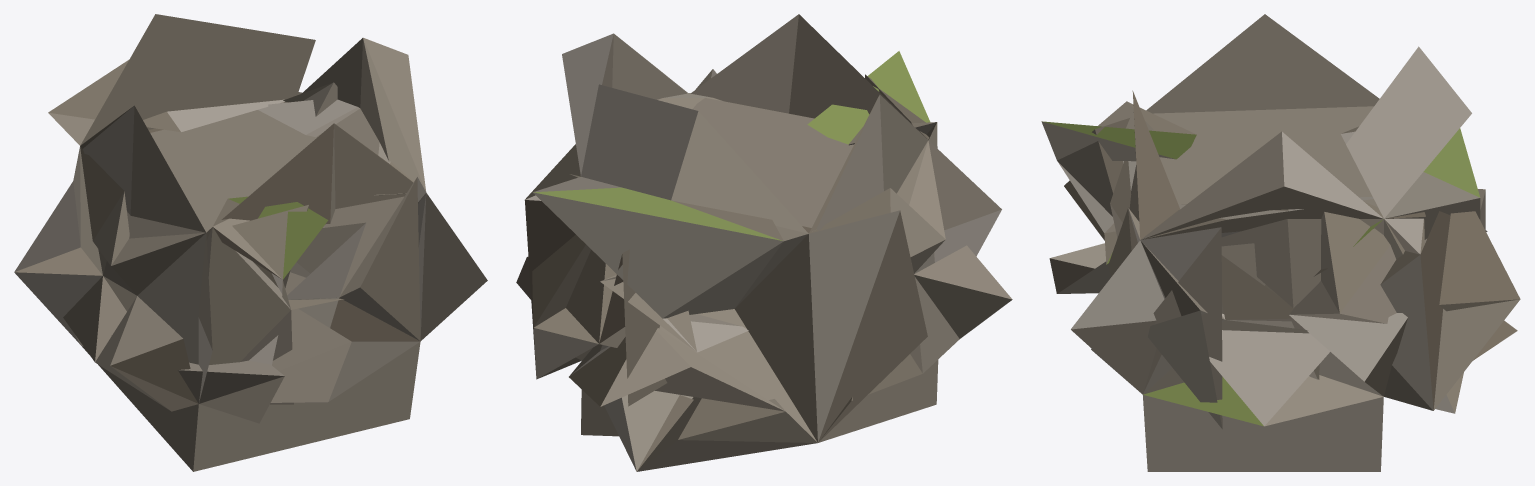
The model's file is ChunkGranite_a.fbx.
3 renders of one model, left to right at view 1: azimuth 30°, elevation 25°; view 2: azimuth 150°, elevation 25°; view 3: azimuth 270°, elevation 25°, orthographic. The views are drawn at different scales.
Visible parts, largest first — view 1: ChunkGranite_a; view 2: ChunkGranite_a; view 3: ChunkGranite_a.
Boxes of the visible parts, <box> form: ChunkGranite_a: <box>14,14,487,471</box>; ChunkGranite_a: <box>516,14,1012,471</box>; ChunkGranite_a: <box>1041,14,1520,471</box>.
Size of what is drawn, in the model's own units: 0.4609 by 0.3975 by 0.4785.
